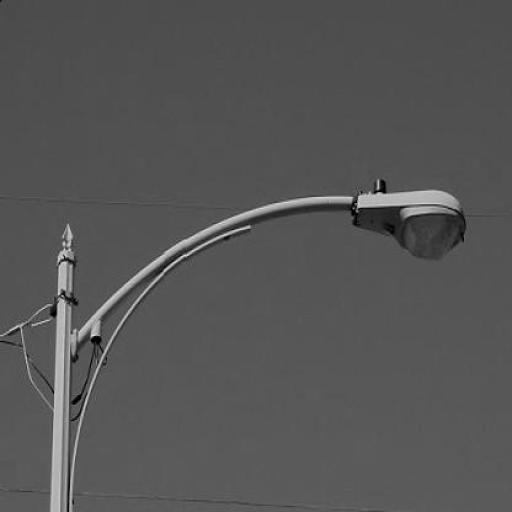street light: (46, 179, 468, 510)
